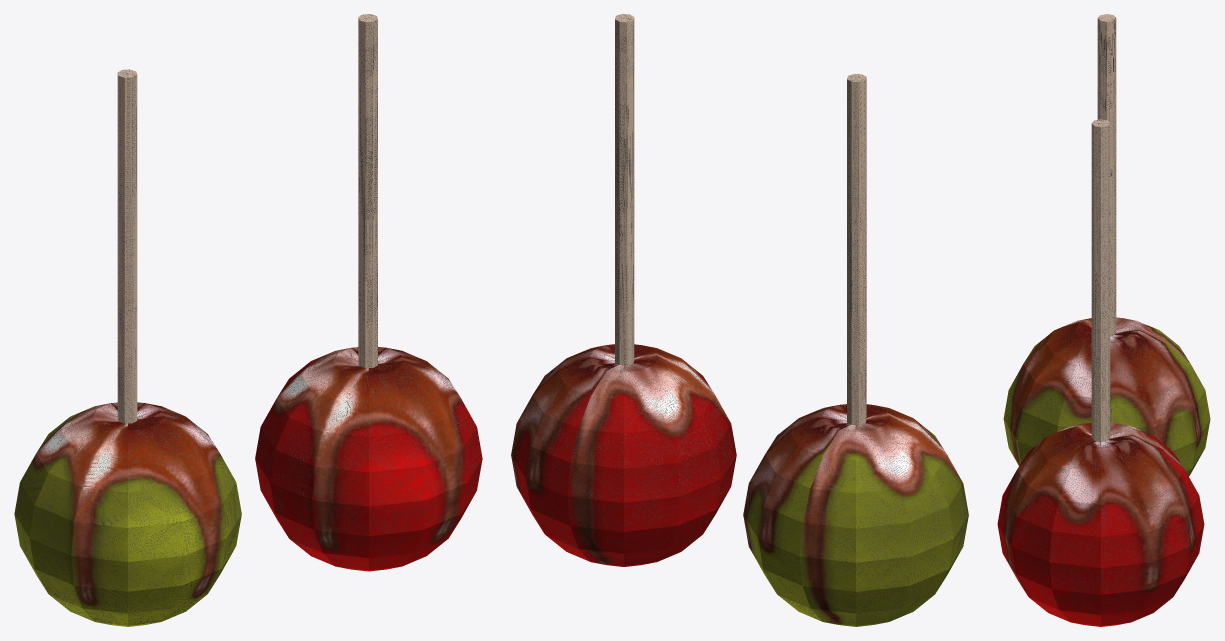
3 views of the same model, side by side, from view 1: azimuth 30°, elevation 25°; view 2: azimuth 150°, elevation 25°; view 3: azimuth 270°, elevation 25° (orthographic). The views are drawn at different scales.
Visible parts, largest first — view 1: skp87DE (×4); view 2: skp87DE (×4); view 3: skp87DE (×4).
Part boxes in pixels (<box>): skp87DE (×4): <box>14,14,482,626</box>; skp87DE (×4): <box>511,14,968,626</box>; skp87DE (×4): <box>997,14,1210,626</box>.
Bounding box in the file's own units: 168 × 78.37 × 201.
